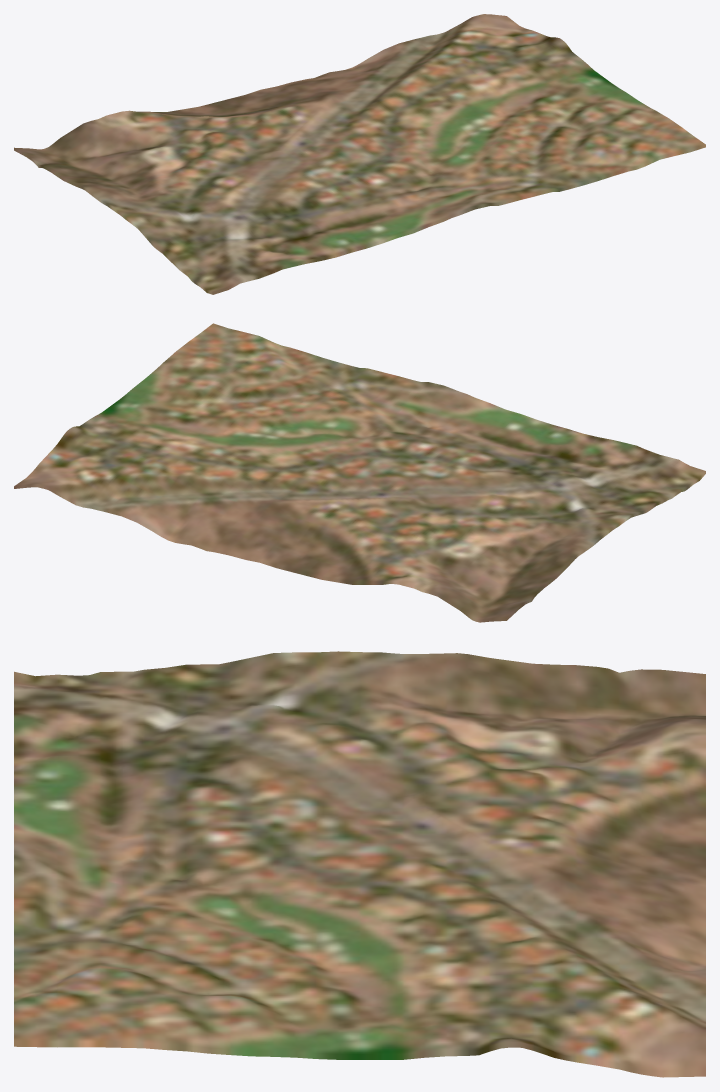
The model's file is terrain_r6_c1_lod1.glb.
The picture shows the model from 3 angles, top to bottom: view 1: azimuth 30°, elevation 25°; view 2: azimuth 150°, elevation 25°; view 3: azimuth 270°, elevation 25°; orthographic projection. The views are drawn at different scales.
Parts seen in each view (by area): view 1: terrain_r6_c1_lod1; view 2: terrain_r6_c1_lod1; view 3: terrain_r6_c1_lod1.
Boxes of the visible parts, box(x1,y1,x2,y2) form: terrain_r6_c1_lod1: box(14, 14, 705, 294); terrain_r6_c1_lod1: box(14, 323, 705, 622); terrain_r6_c1_lod1: box(14, 651, 705, 1077).
Size of the model in its own units: 1125 by 86.93 by 787.
1 material, 1 textured.
